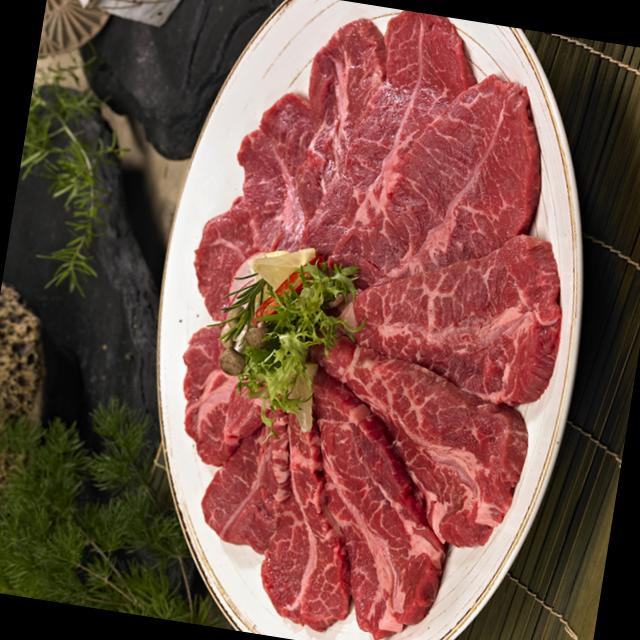beef: (223, 259, 523, 617), (237, 5, 530, 288)
